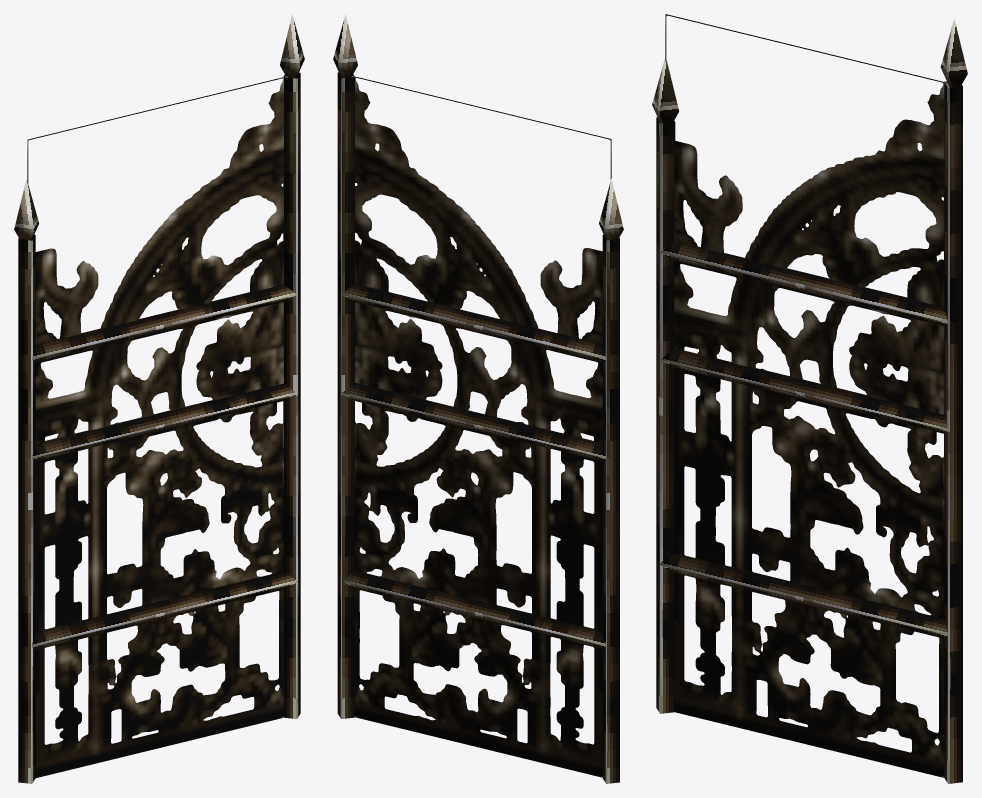
Rendered from SteelDoor01.glb.
3 renders of one model, left to right at view 1: azimuth 30°, elevation 25°; view 2: azimuth 150°, elevation 25°; view 3: azimuth 330°, elevation 25°, orthographic. The views are drawn at different scales.
Visible parts, largest first — view 1: SteelDoor01; view 2: SteelDoor01; view 3: SteelDoor01.
Part boxes in pixels (box(x1,y1,x2,y2)): SteelDoor01: box(14, 14, 304, 783); SteelDoor01: box(333, 14, 623, 783); SteelDoor01: box(652, 14, 967, 783).
Size of the model in its own units: 1.54 by 3.56 by 0.1332.
2 materials, 2 textured.
